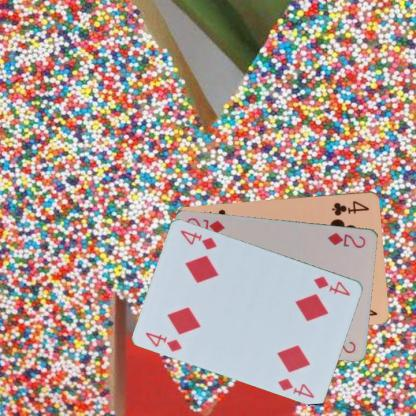2d: (325, 229, 367, 249)
4c: (329, 198, 371, 216)
4d: (143, 329, 184, 354), (311, 273, 352, 297)
